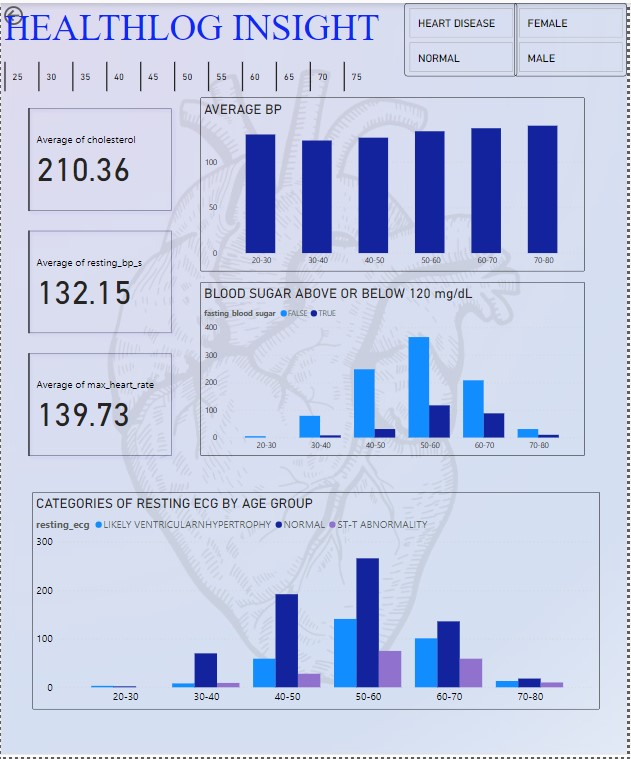

Layout of this report page (visuals, bound fields, positions):
{"tool":"powerbi","page":{"name":"Page 1","canvas":[995,1200],"ordinal":0},"visuals":[{"type":"cardVisual","fields":{"Data":["Avg(heart_statlog.cholesterol)","Avg(heart_statlog.resting_bp_s)","Avg(heart_statlog.max_heart_rate)"]},"box":[26.3,150.4,262.6,587.3],"z":0},{"type":"actionButton","box":[0,0,100,40],"z":1000},{"type":"clusteredColumnChart","title":"BLOOD SUGAR ABOVE OR BELOW 120 mg/dL","fields":{"Category":["heart_statlog.AgeGroup"],"Y":["CountNonNull(heart_statlog.fasting_blood_sugar)"],"Series":["heart_statlog.fasting_blood_sugar"]},"box":[317.5,444,611.2,276.9],"z":2000},{"type":"clusteredColumnChart","title":"AVERAGE BP ","fields":{"Category":["heart_statlog.AgeGroup"],"Y":["Avg(heart_statlog.resting_bp_s)"]},"box":[317.5,150.4,611.2,276.9],"z":3000},{"type":"textbox","box":[0,0,661.3,117],"z":4000},{"type":"clusteredColumnChart","title":"CATEGORIES OF RESTING ECG BY AGE GROUP","fields":{"Category":["heart_statlog.AgeGroup"],"Y":["CountNonNull(heart_statlog.resting_ecg)"],"Series":["heart_statlog.resting_ecg"]},"box":[50.1,778.3,902.4,346.2],"z":5000},{"type":"advancedSlicerVisual","fields":{"Values":["heart_statlog.sex"]},"box":[816.5,0,179,117],"z":6000},{"type":"advancedSlicerVisual","fields":{"Values":["heart_statlog.age (bins)"]},"box":[0,88.3,599.2,57.3],"z":7000},{"type":"advancedSlicerVisual","fields":{"Values":["heart_statlog.target"]},"box":[642.2,0,179,117],"z":8000}]}

Visuals, with their boxes in screenshot pixels (x1, y1, x2, y2), scaled from the page's 995x1200 canvas onto the 631x759 screenshot:
cardVisual - Avg(heart_statlog.cholesterol) x Avg(heart_statlog.resting_bp_s): {"left": 17, "top": 95, "right": 183, "bottom": 467}
actionButton: {"left": 0, "top": 0, "right": 63, "bottom": 25}
"BLOOD SUGAR ABOVE OR BELOW 120 mg/dL" clusteredColumnChart: {"left": 201, "top": 281, "right": 589, "bottom": 456}
"AVERAGE BP " clusteredColumnChart: {"left": 201, "top": 95, "right": 589, "bottom": 270}
textbox: {"left": 0, "top": 0, "right": 419, "bottom": 74}
"CATEGORIES OF RESTING ECG BY AGE GROUP" clusteredColumnChart: {"left": 32, "top": 492, "right": 604, "bottom": 711}
advancedSlicerVisual - heart_statlog.sex: {"left": 518, "top": 0, "right": 630, "bottom": 74}
advancedSlicerVisual - heart_statlog.age (bins): {"left": 0, "top": 56, "right": 380, "bottom": 92}
advancedSlicerVisual - heart_statlog.target: {"left": 407, "top": 0, "right": 521, "bottom": 74}
